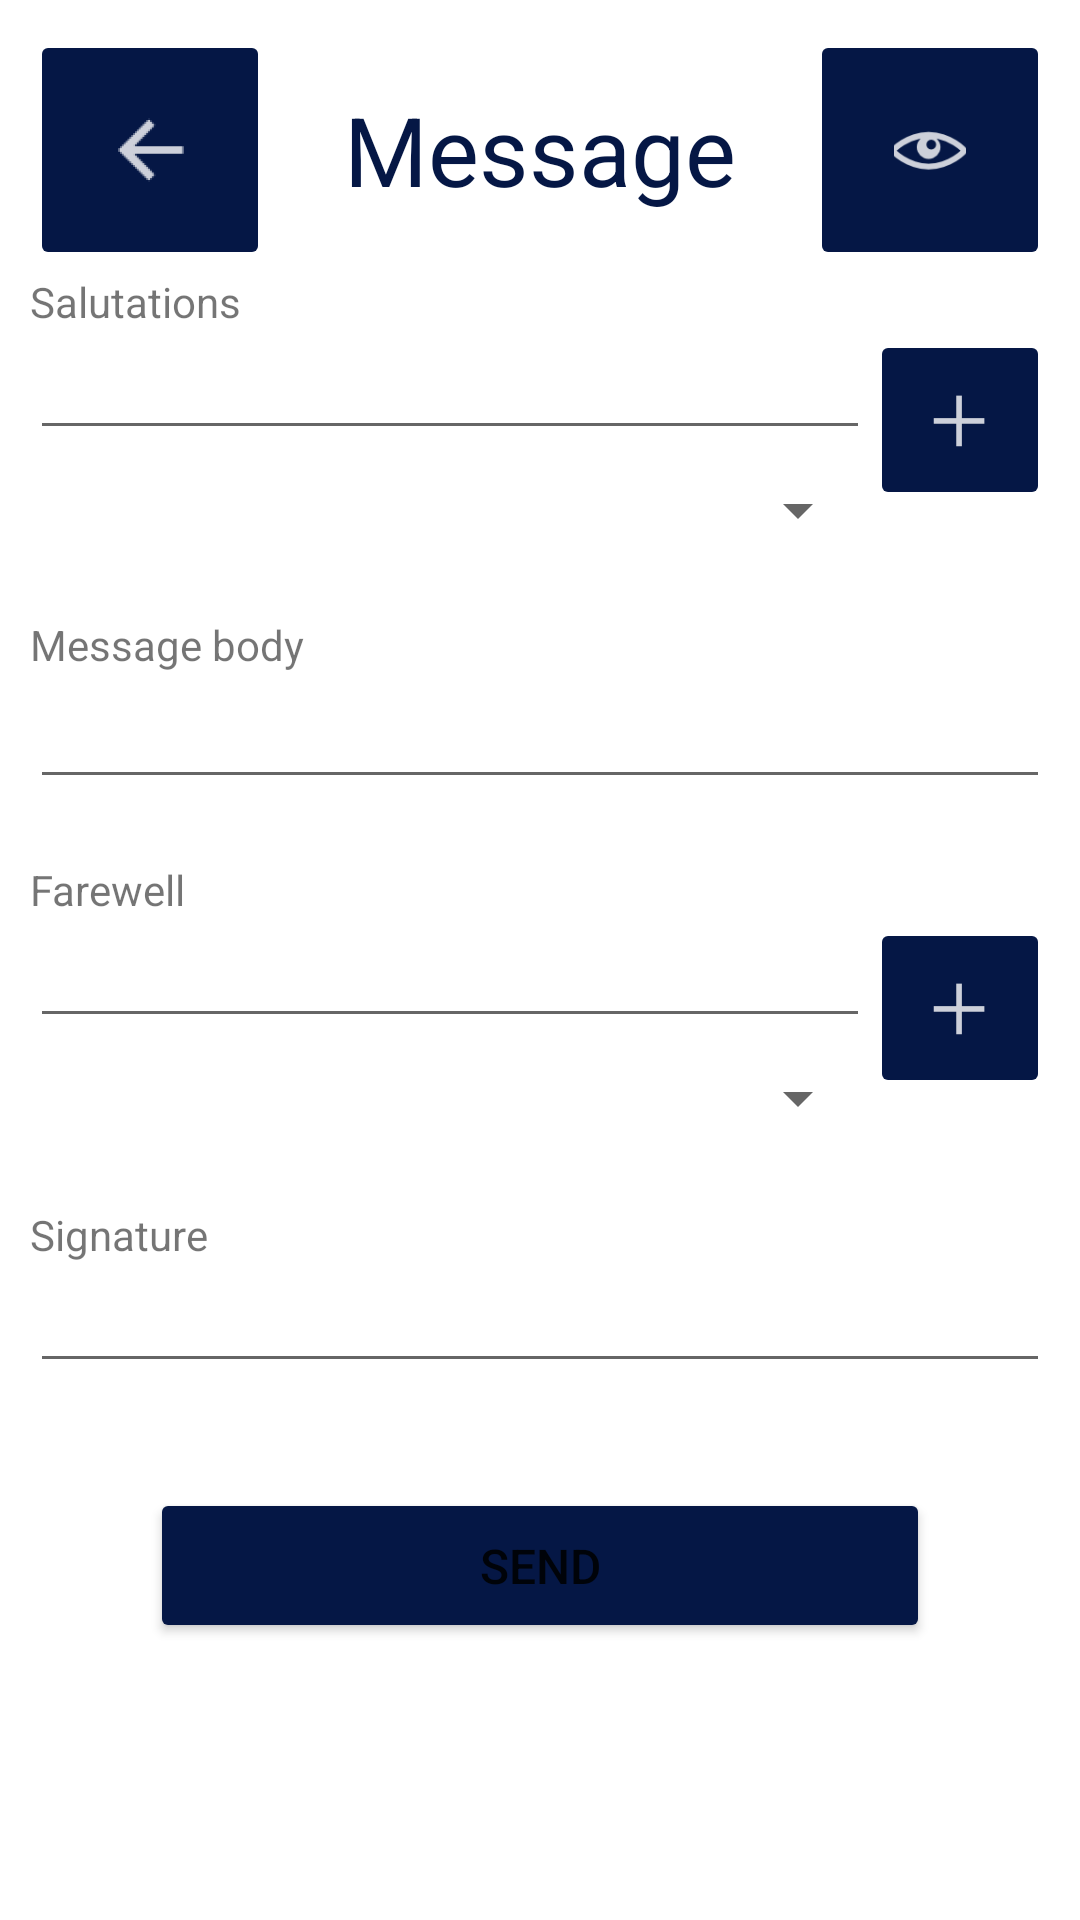

Named icons in this screenshot (1080x1920) and their centers, [x,y]:
add: [960,420], [960,1008]
eye open: [930,150]
left arrow: [150,150]
